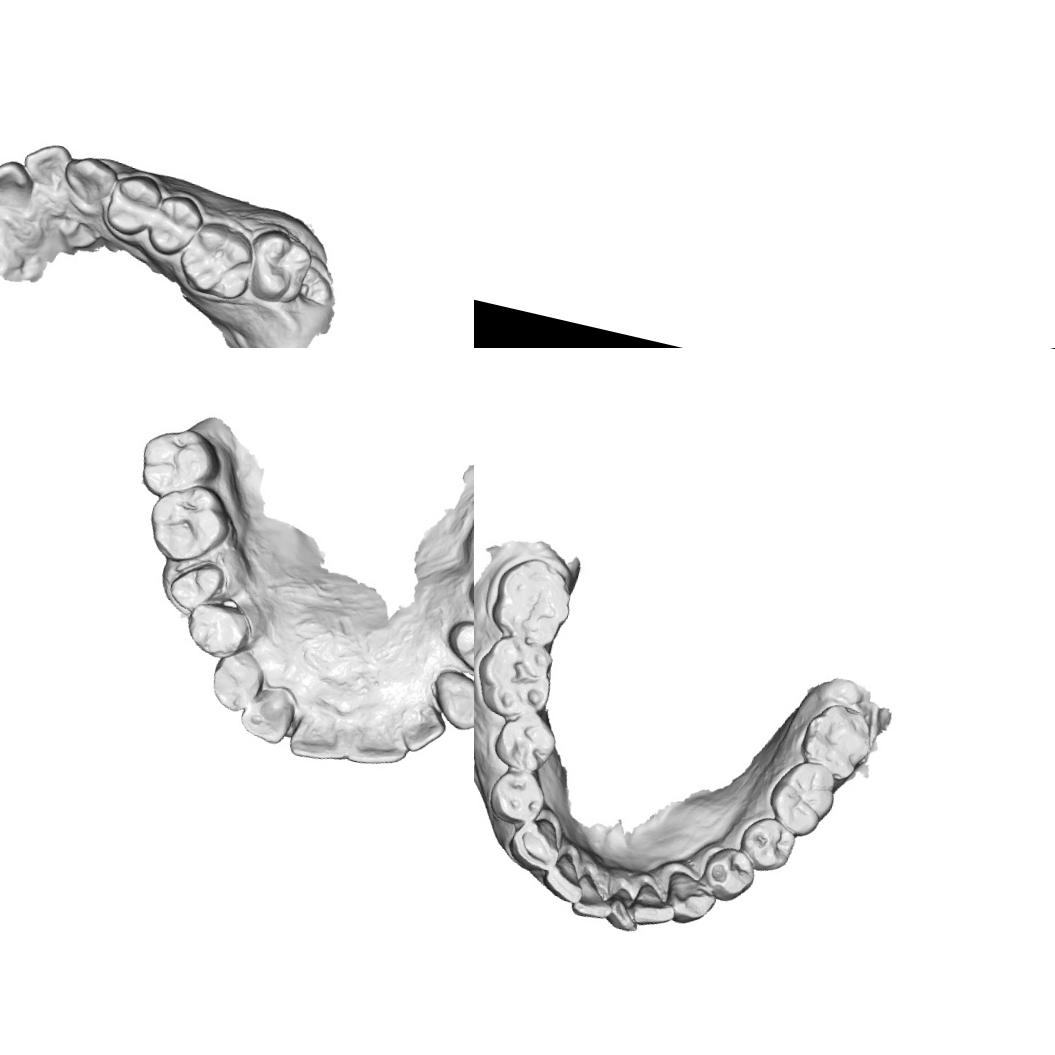canine: (57, 146, 126, 220), (502, 811, 569, 880), (203, 649, 268, 716), (657, 866, 718, 932), (425, 665, 474, 737)
crown: (162, 556, 228, 619)
incisor: (340, 710, 416, 778), (282, 702, 358, 768), (232, 678, 302, 748), (396, 694, 453, 762), (15, 136, 76, 199), (627, 878, 683, 935), (0, 150, 42, 219), (568, 869, 619, 925), (540, 849, 590, 906), (600, 884, 650, 936)
molar: (483, 548, 585, 652), (138, 472, 240, 572), (474, 629, 571, 729), (174, 211, 268, 309), (130, 420, 227, 508), (794, 695, 882, 790), (236, 224, 318, 310), (762, 755, 841, 842)
premolar: (179, 594, 256, 664), (102, 169, 168, 248), (488, 710, 560, 780), (733, 810, 802, 878), (484, 764, 552, 832), (143, 188, 205, 262), (696, 840, 762, 908), (439, 610, 474, 684)
